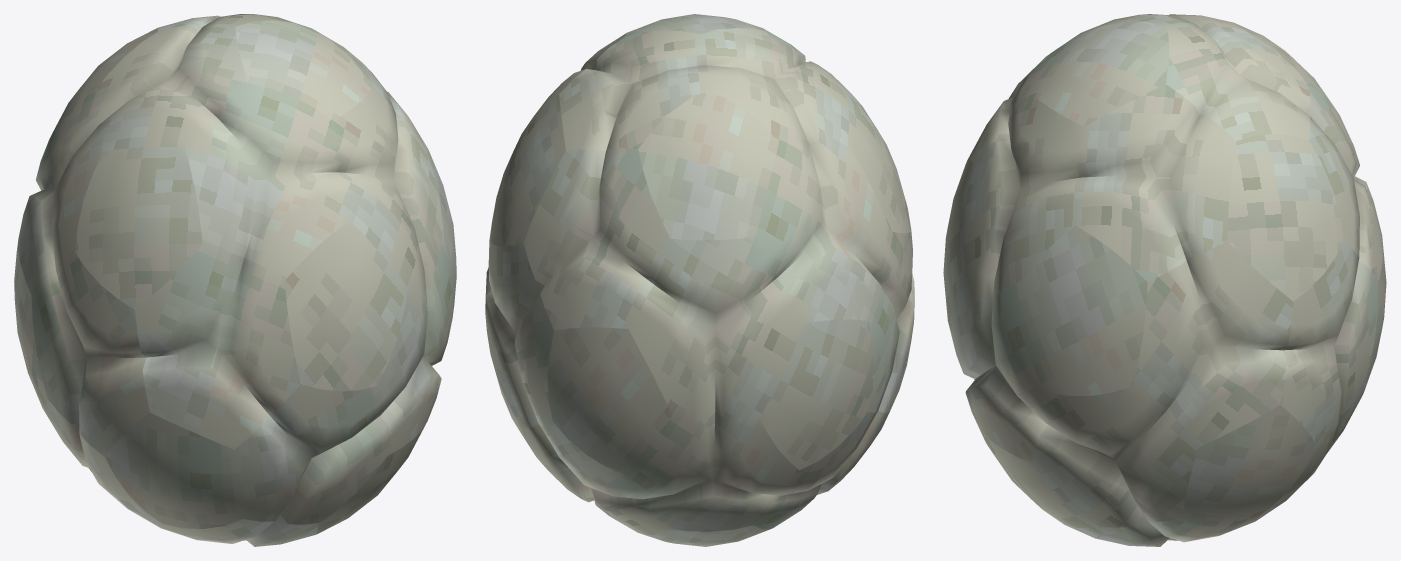
File: stareggroadeggplanetclow.dae
The picture shows the model from 3 angles, left to right: view 1: azimuth 30°, elevation 25°; view 2: azimuth 150°, elevation 25°; view 3: azimuth 270°, elevation 25°; orthographic projection.
Visible parts, largest first — view 1: n0b0; view 2: n0b0; view 3: n0b0.
Boxes of the visible parts, x1,y1,x2,y2 form: n0b0: (14, 14, 456, 546); n0b0: (485, 14, 914, 546); n0b0: (943, 14, 1386, 546).
Size of the model in its own units: 2056 by 2611 by 2086.
